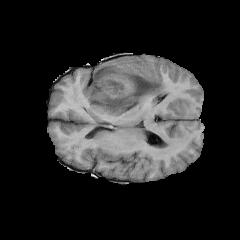glioma: (83, 57, 168, 116)
